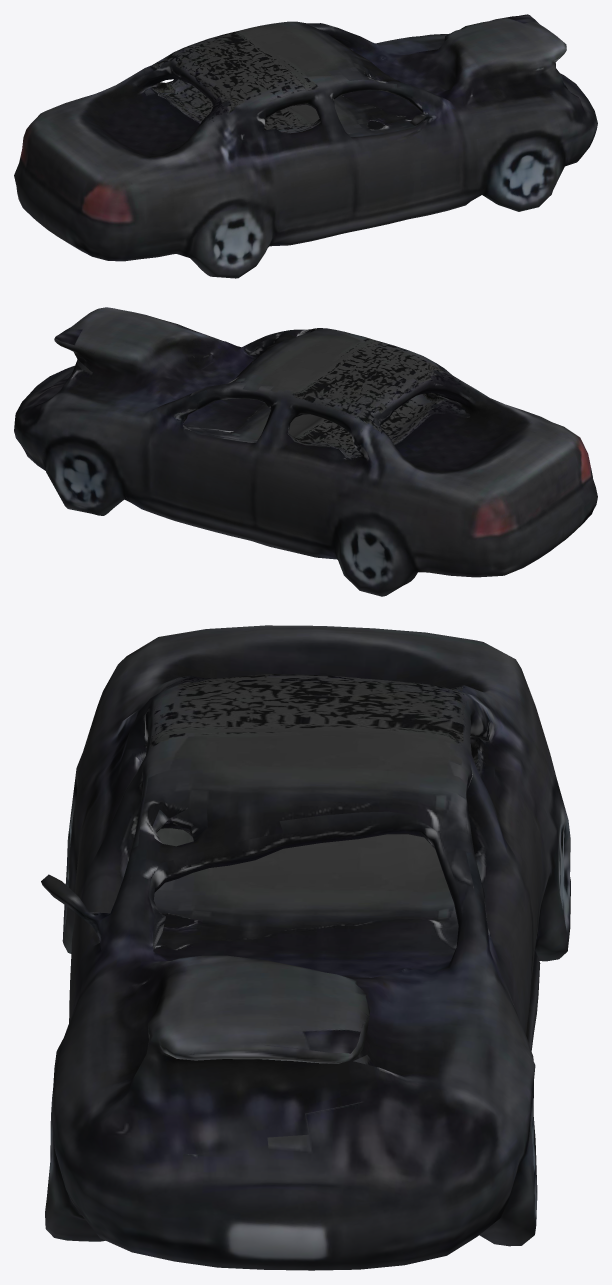
The model's file is 4610ca6f7af5_expensive_car_after.fbx.
The picture shows the model from 3 angles, top to bottom: view 1: azimuth 30°, elevation 25°; view 2: azimuth 150°, elevation 25°; view 3: azimuth 270°, elevation 25°; orthographic projection. The views are drawn at different scales.
Parts seen in each view (by area): view 1: mesh; view 2: mesh; view 3: mesh.
Part boxes in pixels (x1,y1,x2,y2): mesh: (14,14,597,278); mesh: (14,307,597,596); mesh: (41,625,570,1270).
Bounding box in the file's own units: 5.52 × 2.42 × 1.6.
